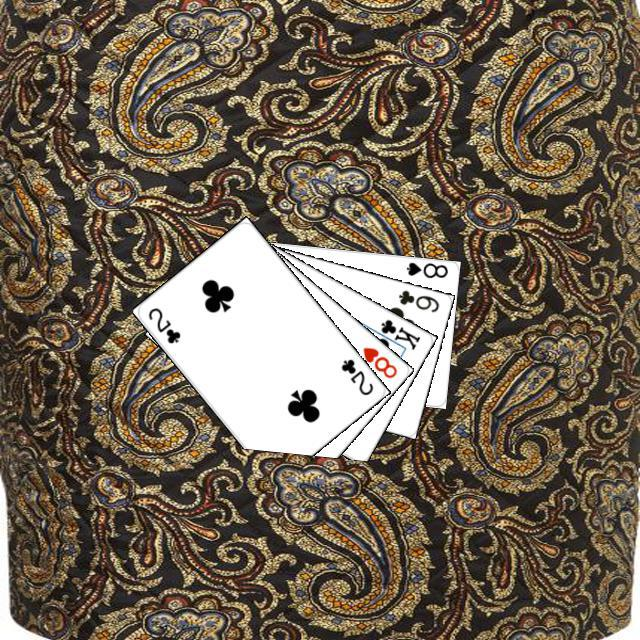2c: (143, 302, 182, 346), (336, 354, 375, 397)
6c: (393, 285, 441, 314)
8h: (358, 342, 399, 380)
8s: (401, 257, 449, 280)
Kc: (367, 314, 422, 352)
